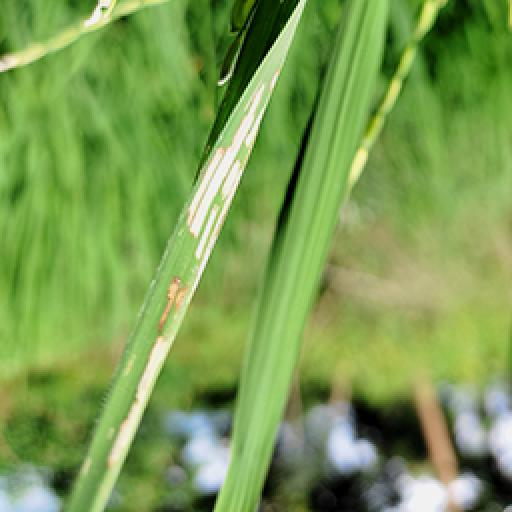Bacterial Leaf Blight: (156, 46, 290, 270), (32, 340, 180, 486)
Brown Spot: (148, 270, 210, 334)
